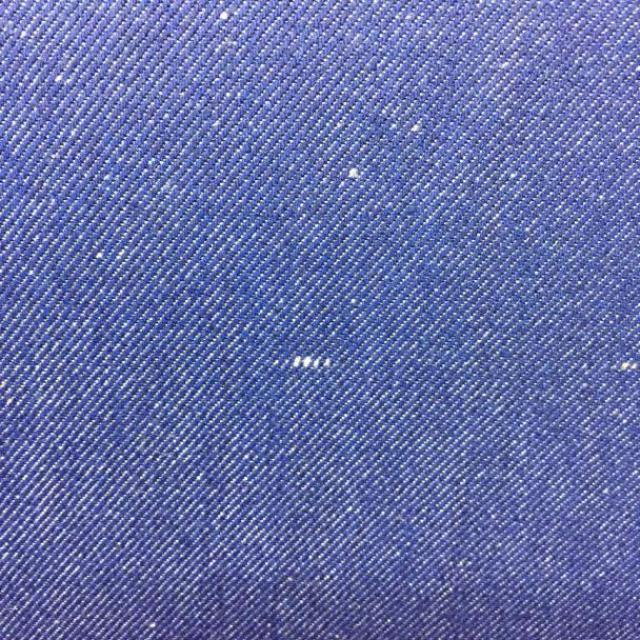Knot: (285, 356, 334, 370)
